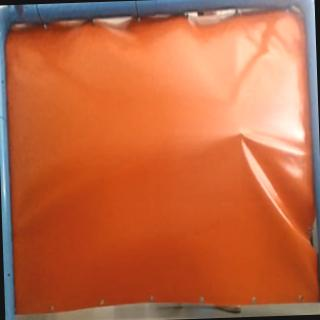Hit-hRxx: (232, 127, 250, 142)
